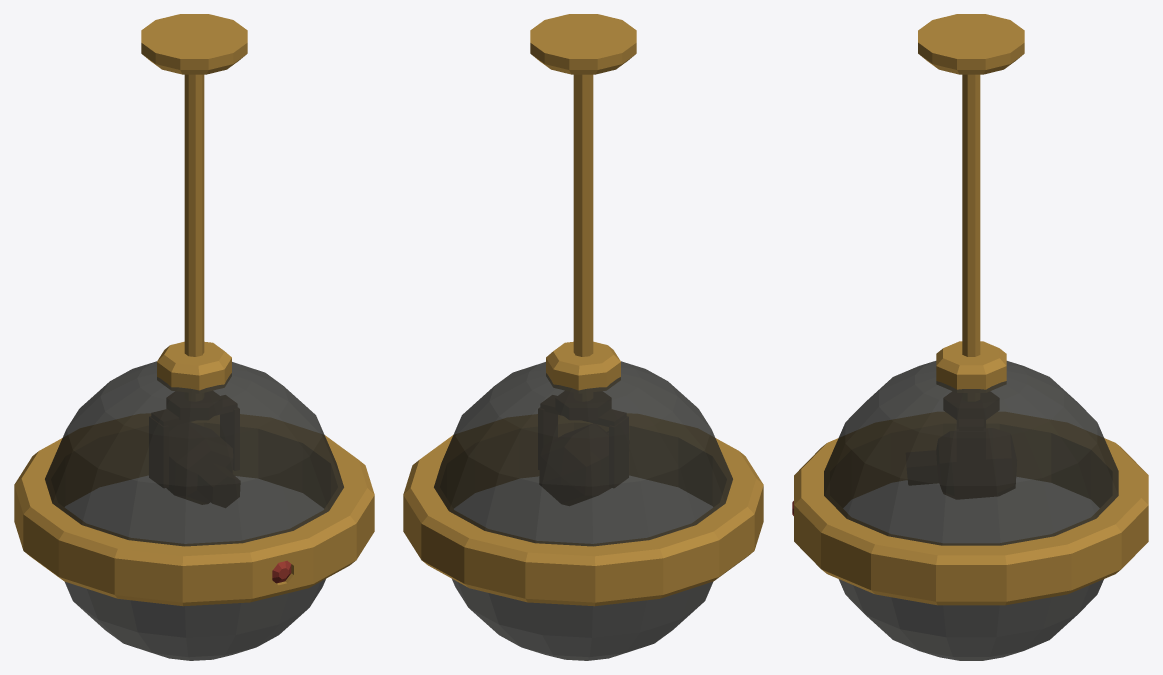
Rendered from eye.glb.
The picture shows the model from 3 angles, left to right: view 1: azimuth 30°, elevation 25°; view 2: azimuth 150°, elevation 25°; view 3: azimuth 270°, elevation 25°; orthographic projection.
Visible parts, largest first — view 1: dome-body, dome-acrylic, tilt-head, pan-yoke; view 2: dome-body, dome-acrylic, tilt-head, pan-yoke; view 3: dome-body, dome-acrylic, tilt-head, pan-yoke.
Part boxes in pixels (x1,y1,x2,y2): dome-body: [14, 14, 374, 606]; dome-acrylic: [45, 361, 343, 660]; tilt-head: [167, 423, 239, 507]; pan-yoke: [149, 391, 239, 487]; dome-body: [403, 14, 763, 606]; dome-acrylic: [434, 361, 732, 660]; tilt-head: [540, 424, 609, 505]; pan-yoke: [538, 391, 628, 487]; dome-body: [792, 14, 1148, 605]; dome-acrylic: [824, 361, 1118, 660]; tilt-head: [906, 428, 1016, 498]; pan-yoke: [944, 392, 998, 491].
Size of the model in its own units: 0.5787 by 1.1 by 0.5816.
